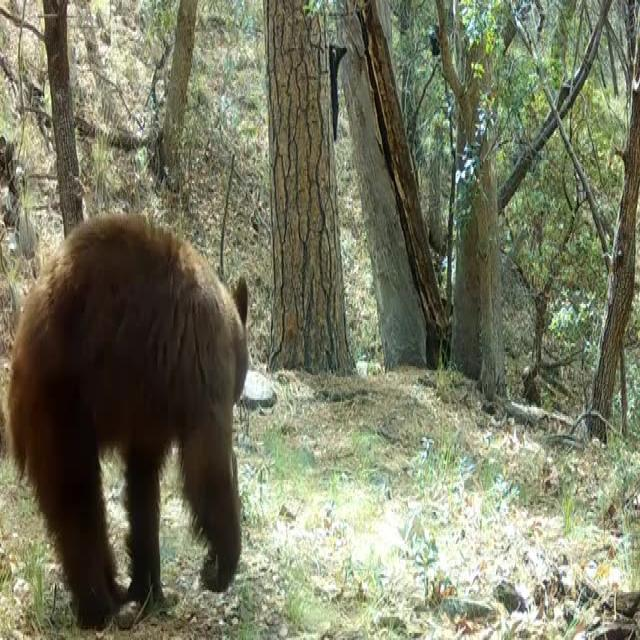bear face: (10, 208, 249, 629), (329, 44, 346, 141)
